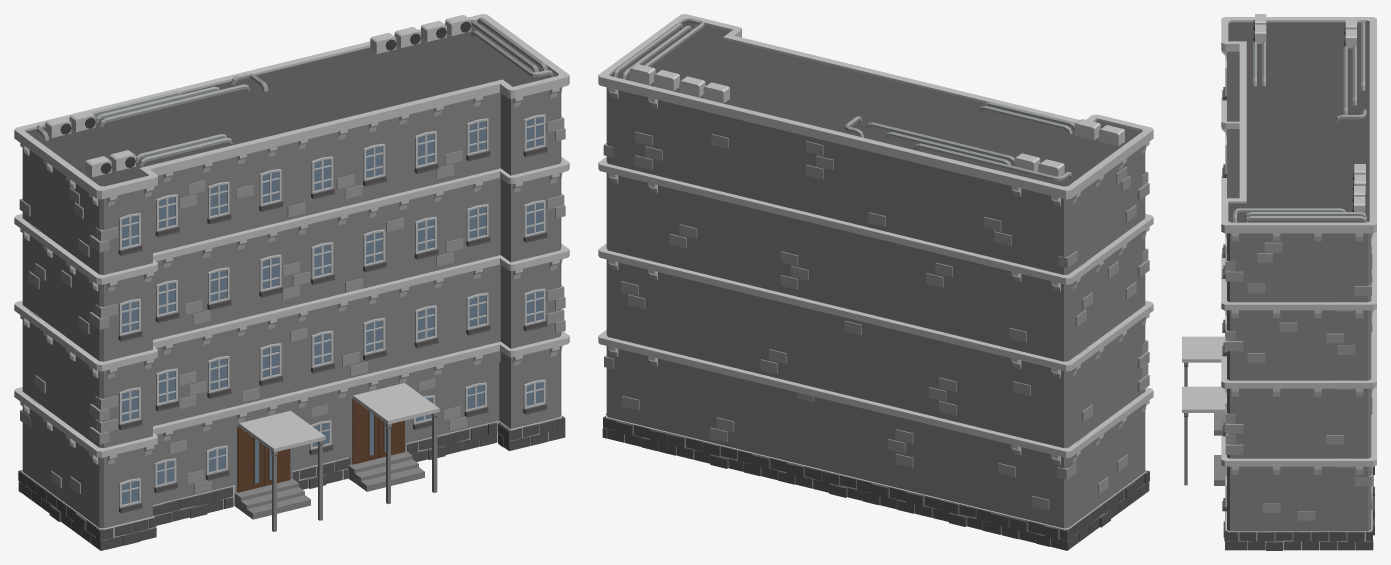
The model's file is 4Story_Wide_2Doors.glb.
The picture shows the model from 3 angles, left to right: view 1: azimuth 30°, elevation 25°; view 2: azimuth 150°, elevation 25°; view 3: azimuth 270°, elevation 25°; orthographic projection. The views are drawn at different scales.
Visible parts, largest first — view 1: 4Story_Wide_2Doors_Cube.022; view 2: 4Story_Wide_2Doors_Cube.022; view 3: 4Story_Wide_2Doors_Cube.022.
Boxes of the visible parts, box(x1,y1,x2,y2) form: 4Story_Wide_2Doors_Cube.022: box(14, 14, 569, 550); 4Story_Wide_2Doors_Cube.022: box(598, 14, 1153, 550); 4Story_Wide_2Doors_Cube.022: box(1182, 14, 1376, 550).
Bounding box in the file's own units: 6.83 × 5.15 × 2.7.
1 material, 1 textured.
